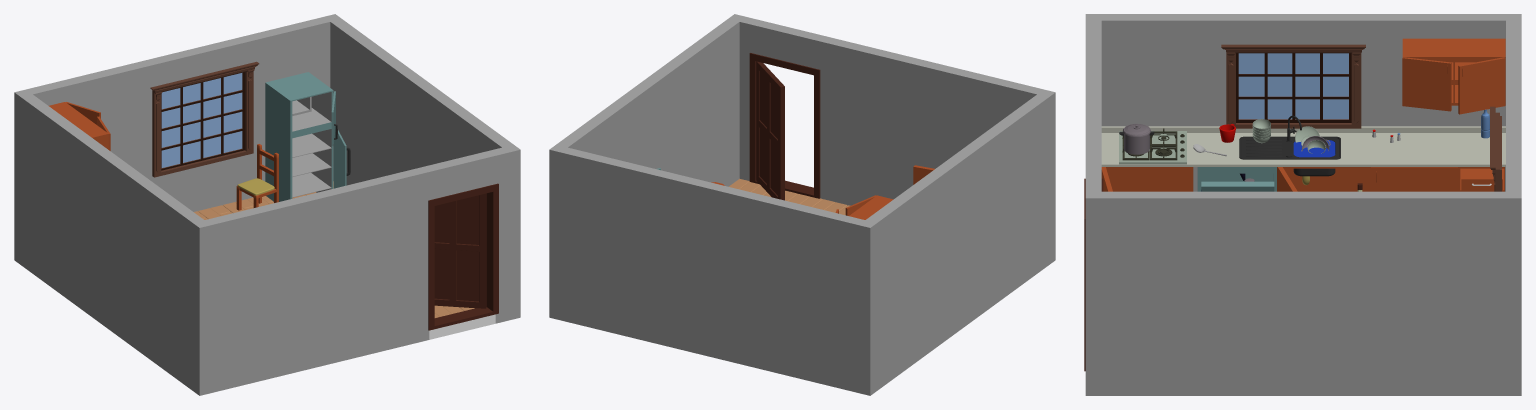
Rendered from kitchenyeni.fbx.
3 renders of one model, left to right at view 1: azimuth 30°, elevation 25°; view 2: azimuth 150°, elevation 25°; view 3: azimuth 270°, elevation 25°, orthographic. The views are drawn at different scales.
Visible parts, largest first — view 1: Cube.018, Cube.021, Cube.020, Cube.019, wind_low.001, Cube.001, Cube.026, Cube.027, Cube.028, Cube.017, Cube.003, Cube.025; view 2: Cube.020, Cube.021, Cube.018, Cube.019, Cube.026, Cube.027, Cube.028; view 3: Cube.019, Cube.021, wind_low, Countertop1.001, Cube.018, Cube.020, Hansgrohe_sink_Varnished_Matt_White.001, Cube.022, Cube.024, Cube.010, Cube.005, stove (+9 smaller).
Part boxes in pixels (x1=…): Cube.018: x1=199, y1=147, x2=520, y2=395; Cube.021: x1=14, y1=92, x2=204, y2=395; Cube.020: x1=15, y1=14, x2=334, y2=211; Cube.019: x1=330, y1=14, x2=519, y2=185; wind_low.001: x1=150, y1=61, x2=259, y2=177; Cube.001: x1=265, y1=72, x2=333, y2=201; Cube.026: x1=434, y1=193, x2=486, y2=308; Cube.027: x1=428, y1=183, x2=498, y2=330; Cube.028: x1=194, y1=181, x2=474, y2=317; Cube.017: x1=236, y1=144, x2=278, y2=210; Cube.003: x1=334, y1=129, x2=350, y2=188; Cube.025: x1=70, y1=118, x2=108, y2=149; Cube.020: x1=549, y1=147, x2=870, y2=395; Cube.021: x1=865, y1=92, x2=1055, y2=395; Cube.018: x1=735, y1=14, x2=1054, y2=205; Cube.019: x1=550, y1=14, x2=739, y2=186; Cube.026: x1=756, y1=61, x2=784, y2=200; Cube.027: x1=749, y1=53, x2=820, y2=198; Cube.028: x1=729, y1=178, x2=850, y2=215; Cube.019: x1=1085, y1=191, x2=1521, y2=395; Cube.021: x1=1086, y1=14, x2=1520, y2=191; wind_low: x1=1221, y1=44, x2=1365, y2=128; Countertop1.001: x1=1101, y1=126, x2=1505, y2=166; Cube.018: x1=1085, y1=14, x2=1101, y2=197; Cube.020: x1=1506, y1=14, x2=1521, y2=197; Hansgrohe_sink_Varnished_Matt_White.001: x1=1239, y1=115, x2=1340, y2=176; Cube.022: x1=1402, y1=57, x2=1451, y2=111; Cube.024: x1=1458, y1=57, x2=1505, y2=114; Cube.010: x1=1371, y1=167, x2=1457, y2=191; Cube.005: x1=1106, y1=167, x2=1193, y2=191; stove: x1=1119, y1=128, x2=1186, y2=164.
Size of the model in its own units: 600 by 300 by 602.
